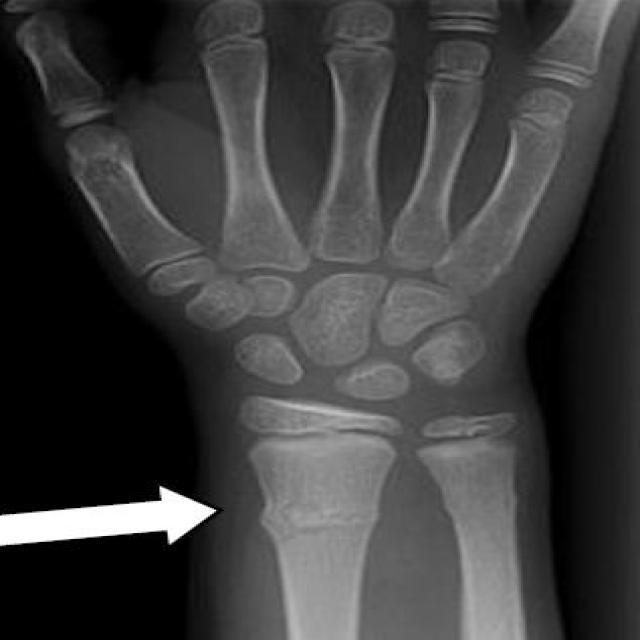bone: (246, 489, 388, 561)
